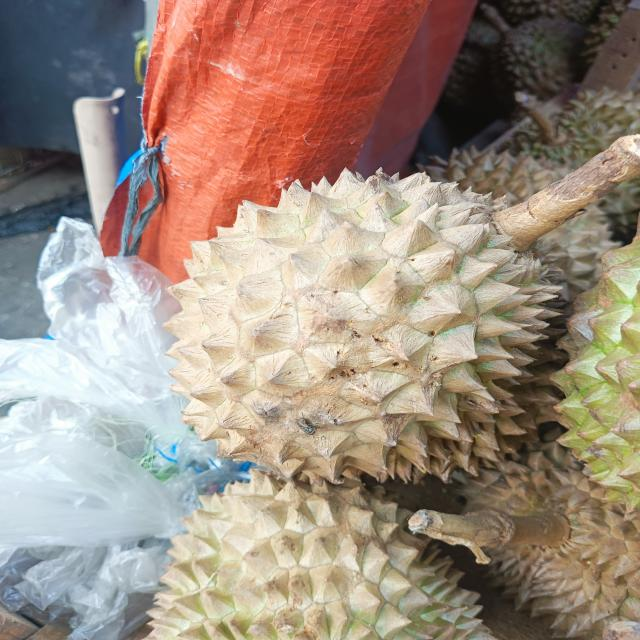mature: (163, 162, 572, 484), (147, 483, 492, 640), (0, 408, 462, 524), (408, 443, 640, 640), (552, 237, 640, 518)
